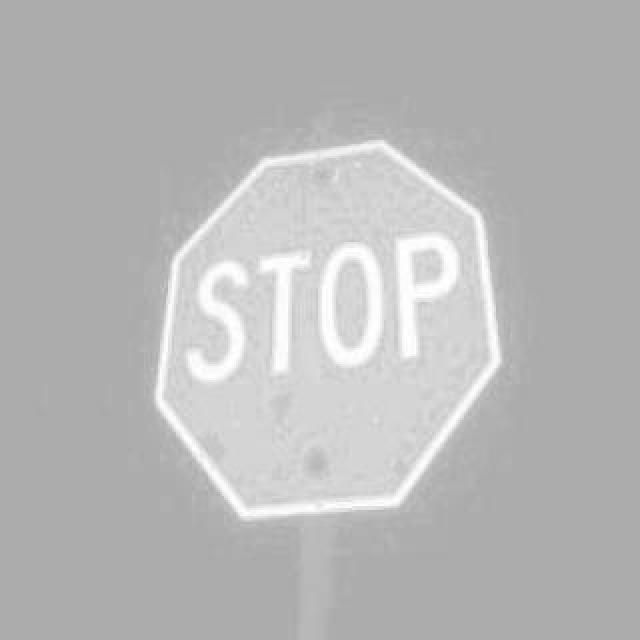stop: (152, 136, 504, 516)
